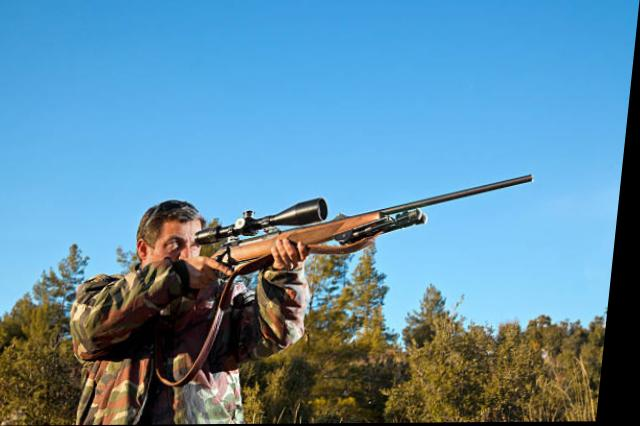other: (56, 177, 383, 423)
